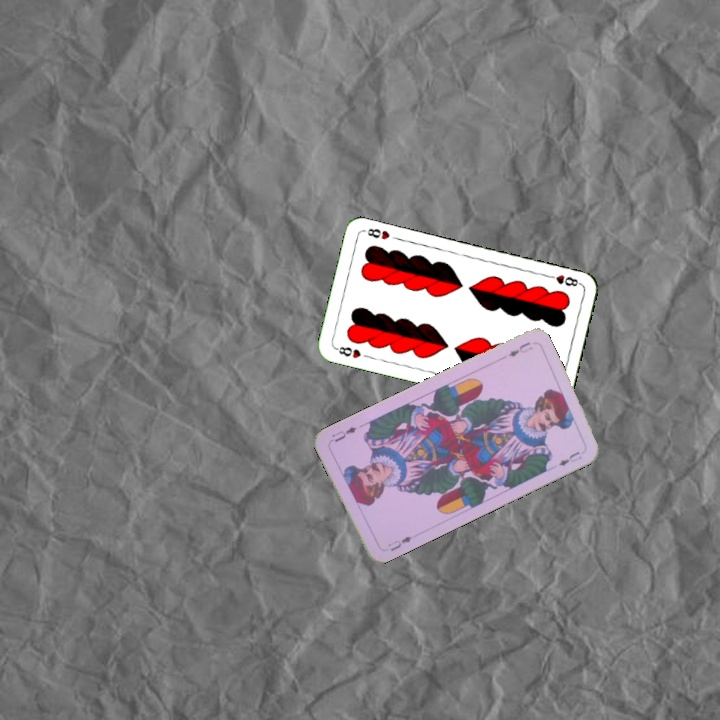EU: (384, 532, 415, 554), (505, 338, 535, 359)
H8: (543, 271, 583, 289), (331, 342, 364, 361)
